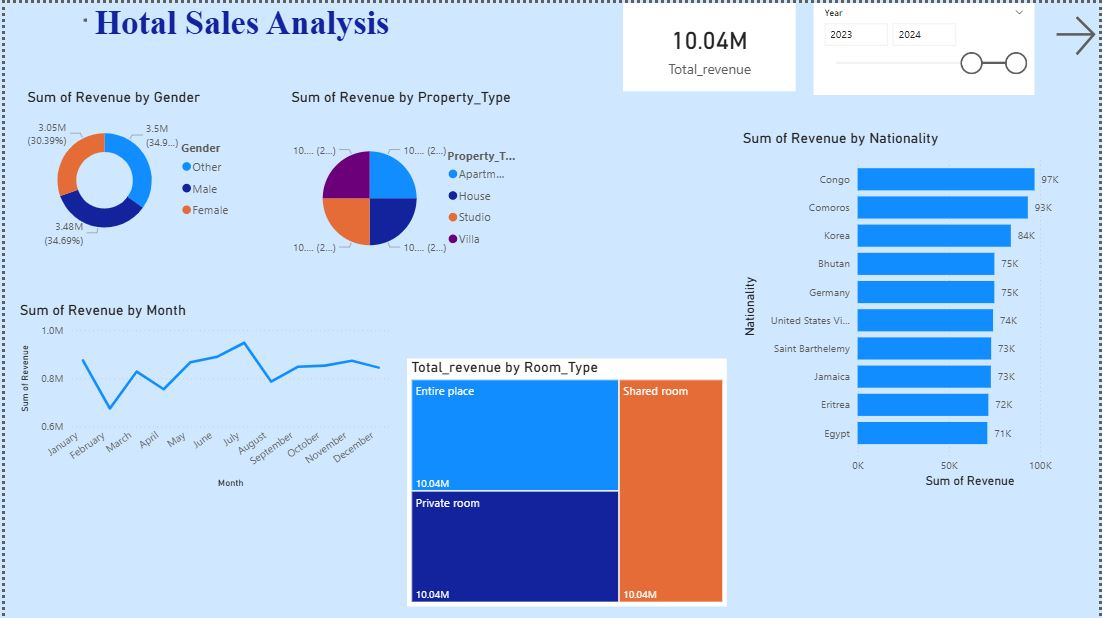

Layout of this report page (visuals, bound fields, positions):
{"tool":"powerbi","page":{"name":"Page 1","canvas":[1280,720],"ordinal":0},"visuals":[{"type":"lineChart","fields":{"Category":["Dim_Date.Full_Date.Variation.Date Hierarchy.Year","Dim_Date.Full_Date.Variation.Date Hierarchy.Quarter","Dim_Date.Full_Date.Variation.Date Hierarchy.Month","Dim_Date.Full_Date.Variation.Date Hierarchy.Day"],"Y":["Sum(Fact_Bookings.Revenue)"]},"box":[12.3,349.1,442.1,222.8],"z":0},{"type":"pieChart","fields":{"Y":["Sum(Fact_Bookings.Revenue)"],"Category":["Dim_Property.Property_Type"]},"box":[329.8,100,280.7,236.8],"z":1000},{"type":"donutChart","fields":{"Category":["Dim_Customer.Gender"],"Y":["Sum(Fact_Bookings.Revenue)"]},"box":[21.1,100,256.1,194.7],"z":2000},{"type":"slicer","fields":{"Values":["Dim_Date.Year"]},"box":[945.6,0,257.9,107],"z":3000},{"type":"card","fields":{"Values":["Fact_Bookings.Total_revenue"]},"box":[722.8,0,201.8,103.5],"z":4000},{"type":"textbox","title":"Hotal Sales Analysis","box":[0,0,554.4,45.6],"z":5000},{"type":"actionButton","box":[1222.8,0,57.9,77.2],"z":6000},{"type":"actionButton","box":[87.7,0,12.3,40.4],"z":7000},{"type":"clusteredBarChart","fields":{"Category":["Dim_Customer.Nationality"],"Y":["Sum(Fact_Bookings.Revenue)"]},"box":[858.7,148.1,420.8,423.9],"z":8000},{"type":"treemap","fields":{"Values":["Fact_Bookings.Total_revenue"],"Group":["Dim_Property.Room_Type"]},"box":[470.6,416.1,374,289.9],"z":8001}]}

Visuals, with their boxes in screenshot pixels (x1, y1, x2, y2), scaled from the page's 1280x720 canvas onto the 1102x618 screenshot:
lineChart - Dim_Date.Full_Date.Variation.Date Hierarchy.Year x Dim_Date.Full_Date.Variation.Date Hierarchy.Quarter: 11, 300, 391, 491
pieChart - Sum(Fact_Bookings.Revenue) x Dim_Property.Property_Type: 284, 86, 526, 289
donutChart - Dim_Customer.Gender x Sum(Fact_Bookings.Revenue): 18, 86, 239, 253
slicer - Dim_Date.Year: 814, 0, 1036, 92
card - Fact_Bookings.Total_revenue: 622, 0, 796, 89
"Hotal Sales Analysis" textbox: 0, 0, 477, 39
actionButton: 1053, 0, 1101, 66
actionButton: 76, 0, 86, 35
clusteredBarChart - Dim_Customer.Nationality x Sum(Fact_Bookings.Revenue): 739, 127, 1101, 491
treemap - Fact_Bookings.Total_revenue x Dim_Property.Room_Type: 405, 357, 727, 606
